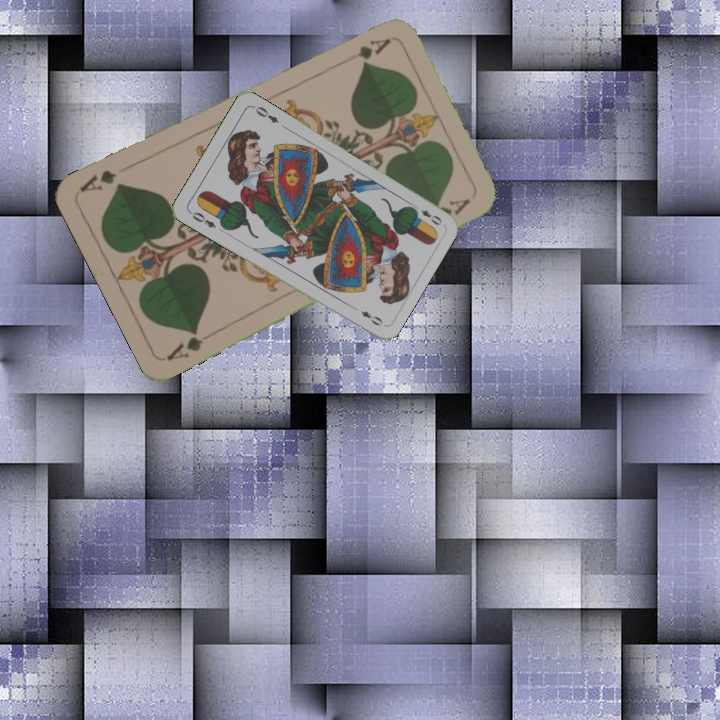EO: (408, 200, 445, 228), (185, 207, 218, 230)
GA: (163, 325, 217, 364), (353, 34, 393, 61)
